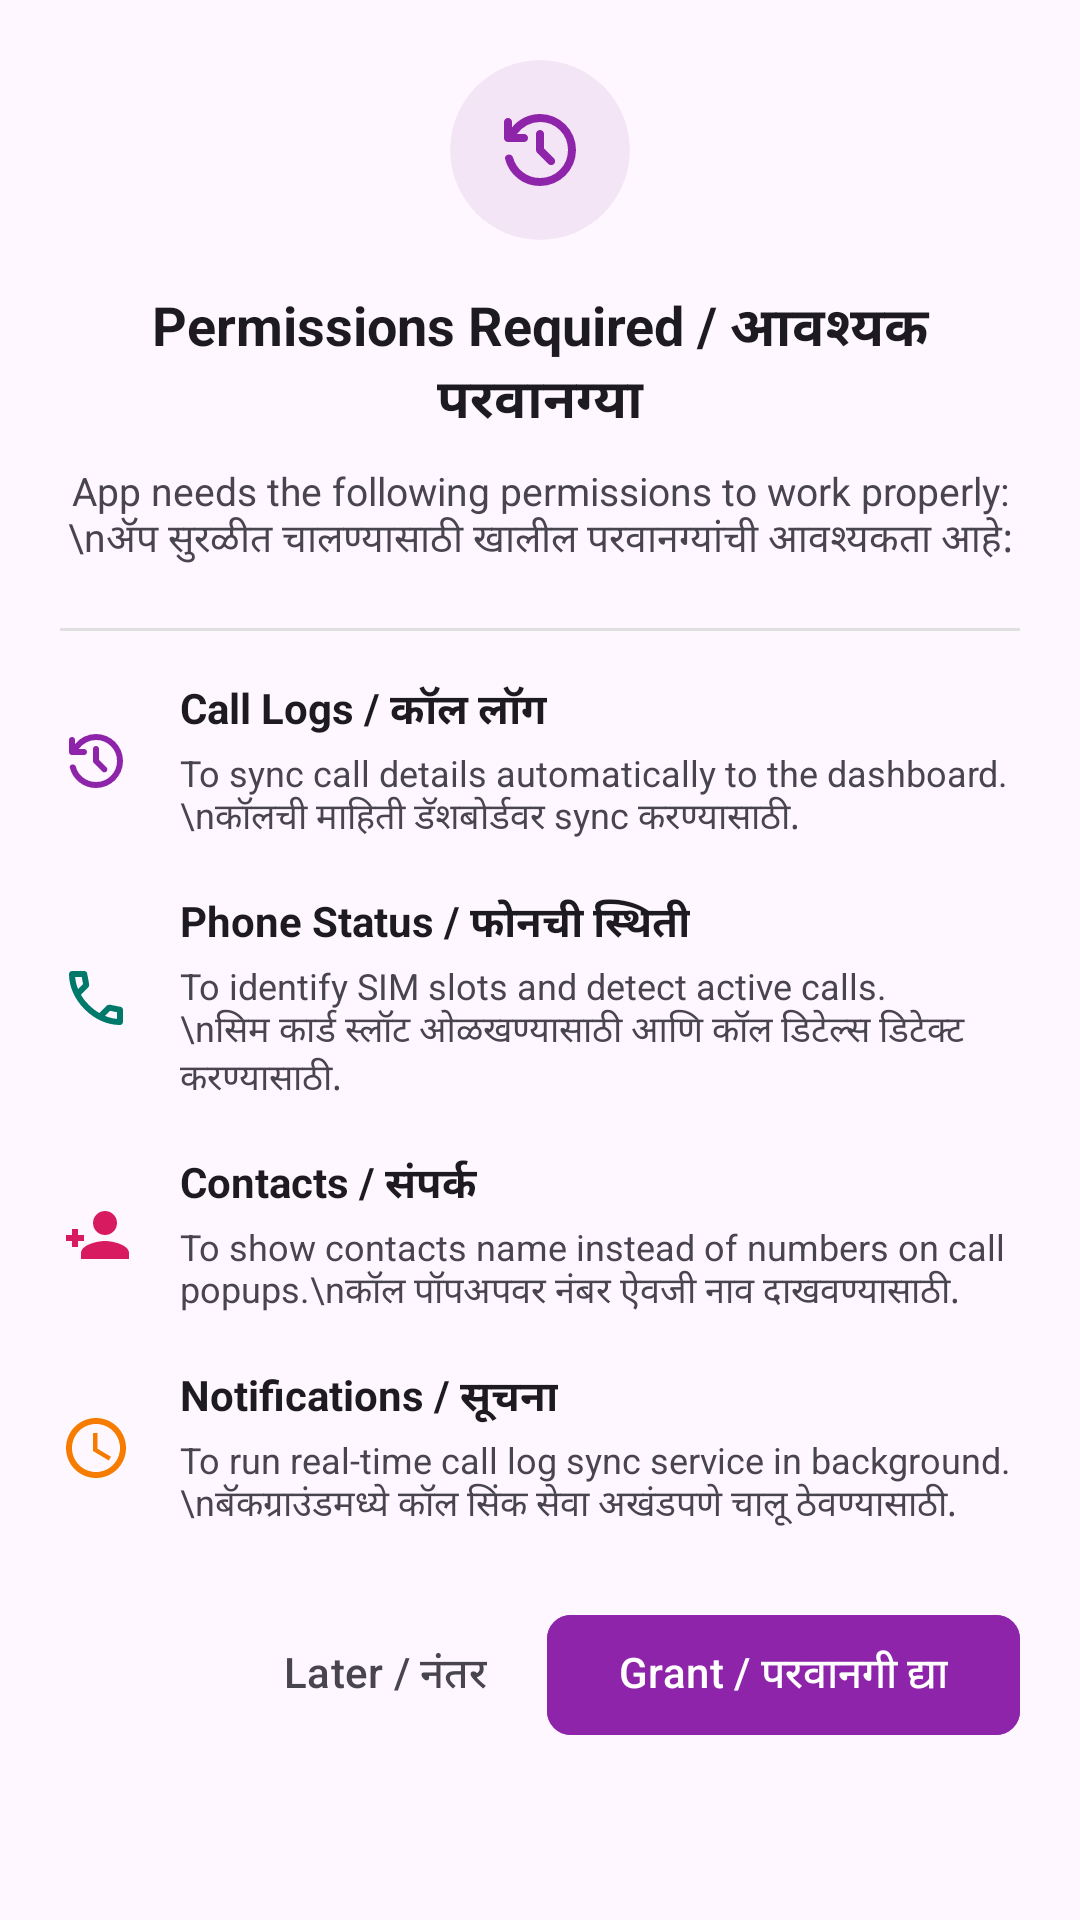

Named icons in this screenshot (1080px×1920px) and their bounding boxes, (x1, y1, x2, y2):
clock: (66, 1418, 126, 1478)
person add: (66, 1211, 129, 1259)
